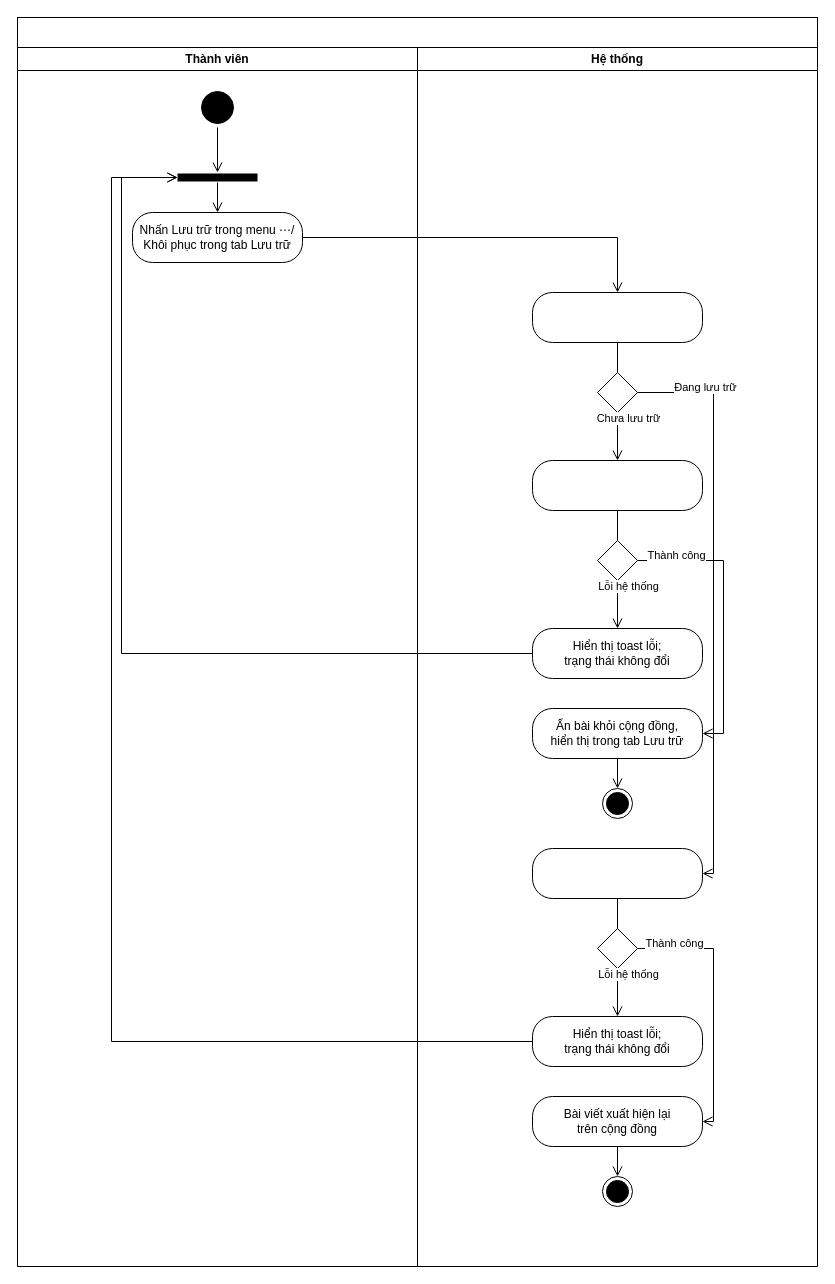
This 835x1284 diagram has some shape labels left out. Each missing label, with the centre of its shape:
Cập nhật trạng thái thành lưu trữ: the point at 617,485
Cập nhật trạng thái về đã đăng: the point at 617,873
LƯU TRỮ POST: the point at 417,32
Xác định trạng thái hiện tại của bài viết: the point at 617,317
